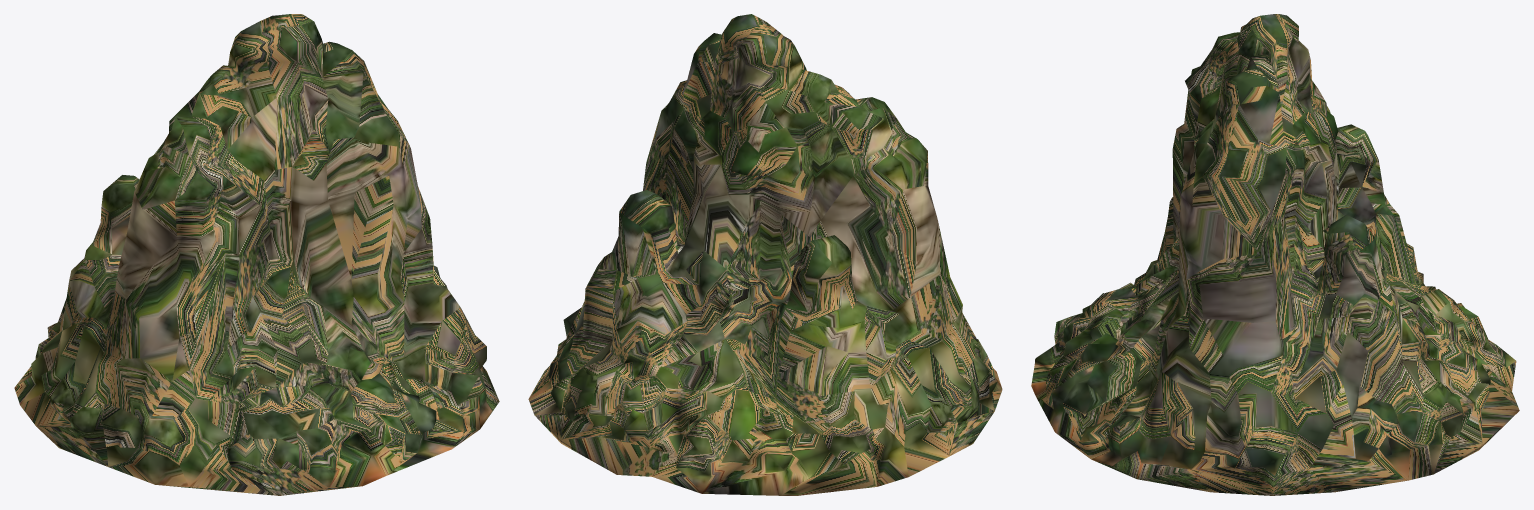
File: Majestic_Rock_Formati.glb
3 views of the same model, side by side, from view 1: azimuth 30°, elevation 25°; view 2: azimuth 150°, elevation 25°; view 3: azimuth 270°, elevation 25° (orthographic). The views are drawn at different scales.
Parts seen in each view (by area): view 1: Majestic_Rock_Formati; view 2: Majestic_Rock_Formati; view 3: Majestic_Rock_Formati.
Part boxes in pixels (<box>): Majestic_Rock_Formati: <box>14,14,499,495</box>; Majestic_Rock_Formati: <box>528,14,1002,495</box>; Majestic_Rock_Formati: <box>1031,14,1519,495</box>.
Bounding box in the file's own units: 1.9 × 1.69 × 1.91.
1 material, 1 textured.
